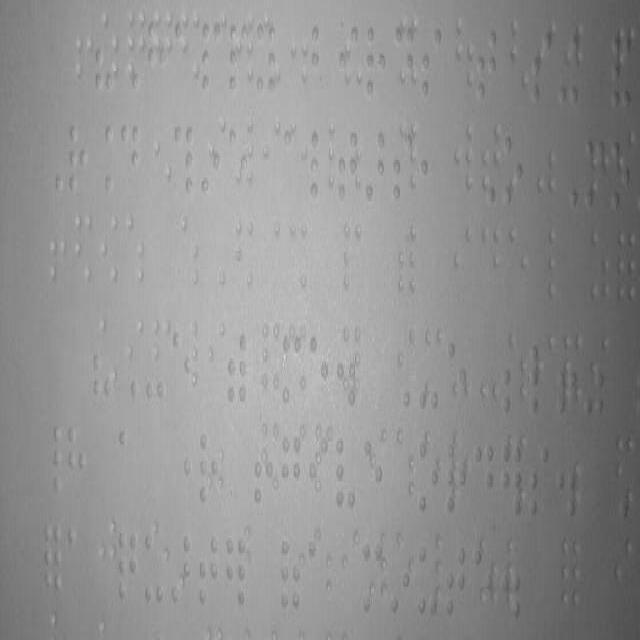braiile: (116, 528, 142, 610), (118, 120, 144, 200), (200, 22, 224, 107), (66, 119, 90, 201), (420, 22, 444, 102), (475, 22, 499, 102), (117, 422, 141, 502), (334, 431, 358, 511), (527, 444, 551, 524), (142, 526, 166, 606), (280, 125, 304, 203), (364, 23, 388, 101), (196, 534, 220, 612), (280, 432, 302, 514), (67, 520, 89, 600), (308, 130, 332, 203), (336, 131, 359, 207), (67, 421, 89, 499), (391, 131, 413, 207), (473, 442, 495, 518), (254, 25, 276, 99), (281, 332, 303, 406), (445, 543, 467, 617), (310, 21, 330, 99), (418, 439, 438, 517), (418, 543, 438, 621), (309, 332, 329, 406), (308, 541, 328, 615), (173, 329, 193, 400)
